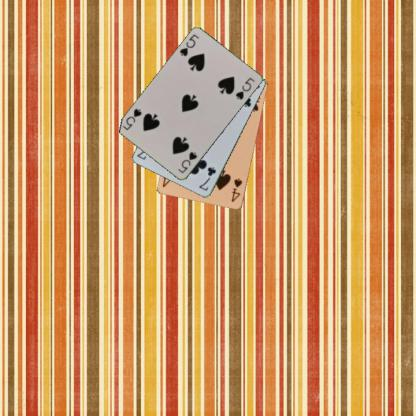4s: (229, 176, 244, 203)
5s: (178, 32, 200, 58), (176, 150, 198, 175)
7c: (196, 165, 218, 192)
